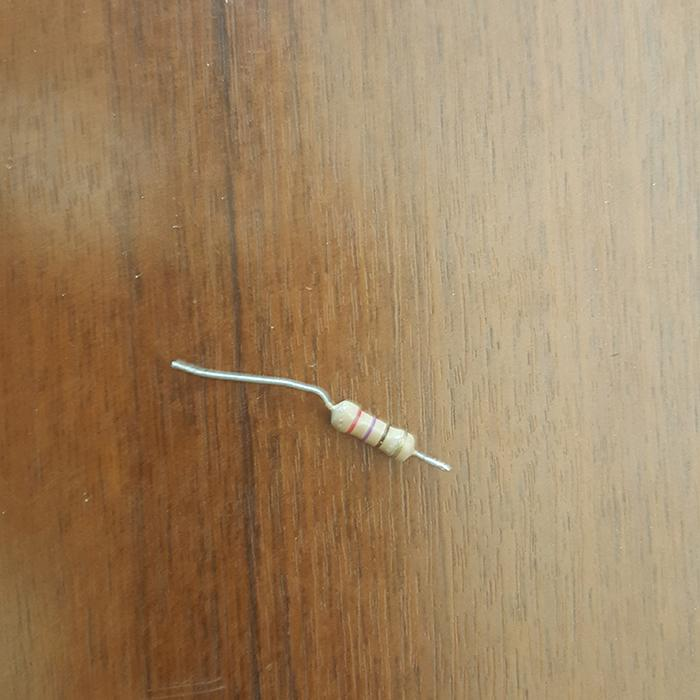resistor: (329, 399, 415, 463)
